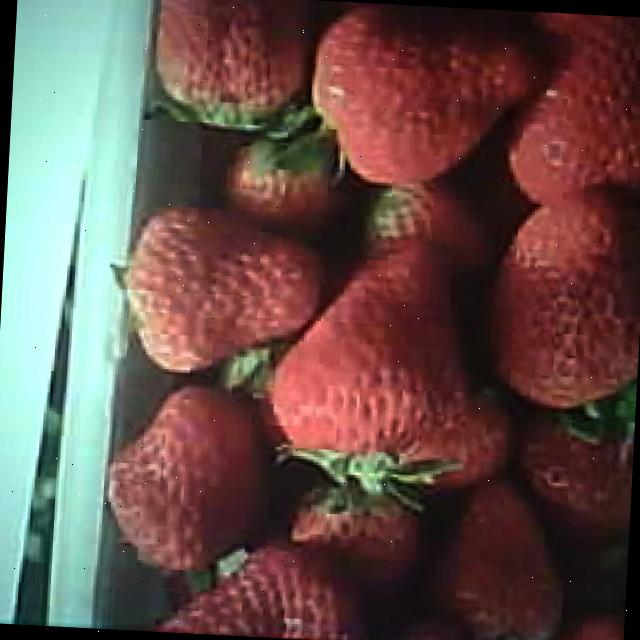strawberry: (302, 0, 535, 190), (274, 237, 466, 458), (480, 183, 640, 408), (133, 206, 317, 374)
